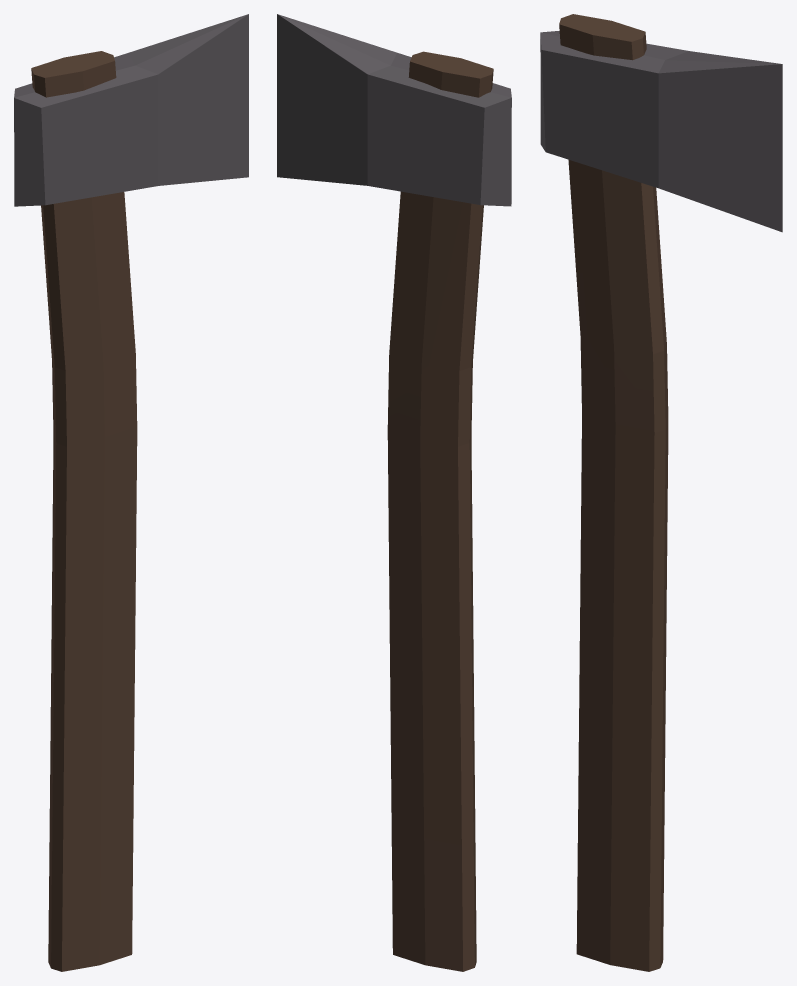
Rendered from Axe1.fbx.
3 views of the same model, side by side, from view 1: azimuth 30°, elevation 25°; view 2: azimuth 150°, elevation 25°; view 3: azimuth 330°, elevation 25° (orthographic). The views are drawn at different scales.
Parts seen in each view (by area): view 1: Handle, Axe; view 2: Handle, Axe; view 3: Handle, Axe.
Part boxes in pixels (x1,y1,x2,y2): Handle: (31, 51, 137, 971); Axe: (14, 14, 248, 206); Handle: (387, 51, 493, 971); Axe: (277, 14, 511, 206); Handle: (559, 14, 668, 971); Axe: (540, 31, 782, 232).
Bounding box in the file's own units: 54.42 × 201 × 11.91.
